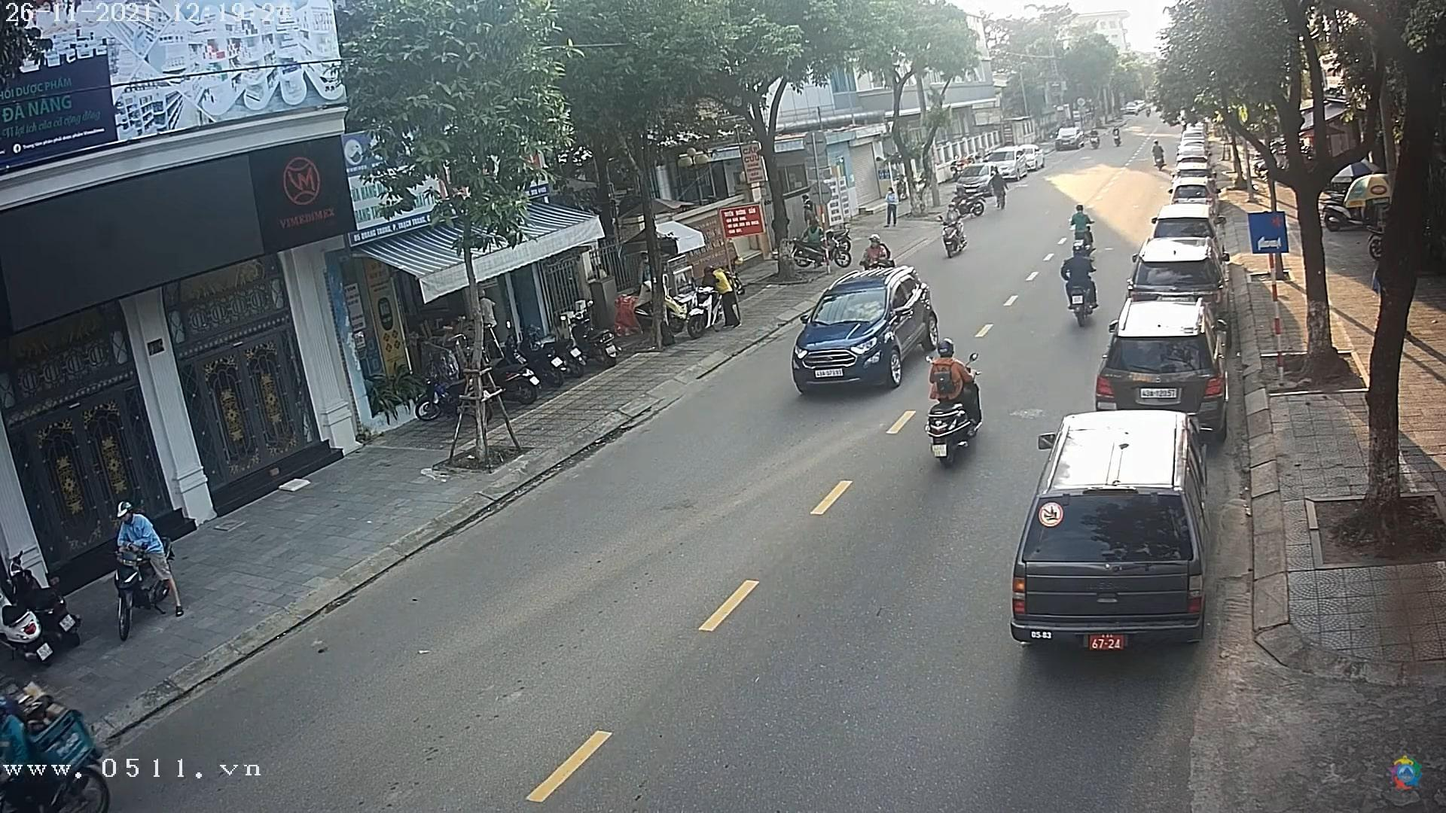car: (788, 266, 944, 394)
